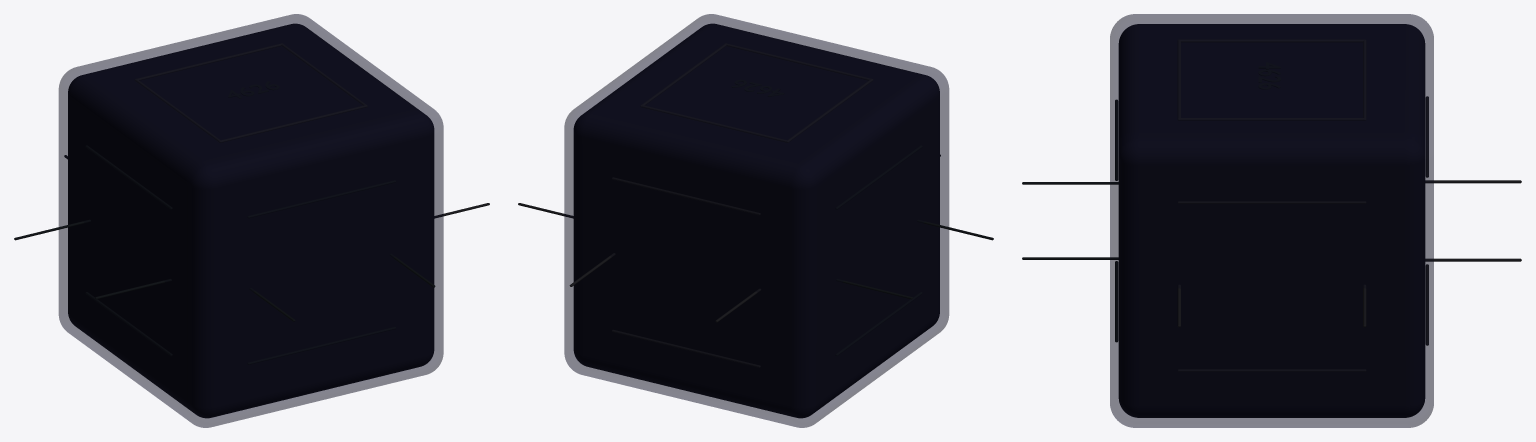
File: obsidian-vault.glb
3 views of the same model, side by side, from view 1: azimuth 30°, elevation 25°; view 2: azimuth 150°, elevation 25°; view 3: azimuth 270°, elevation 25° (orthographic). The views are drawn at different scales.
Parts seen in each view (by area): view 1: smoked_glass_outer_shell, obsidian_vault_core, vault_secondary_bottom_seam_2, vault_secondary_bottom_seam_1, vault_front_seam_2, vault_front_seam_1; view 2: smoked_glass_outer_shell, obsidian_vault_core, vault_top_seam_2, vault_top_seam_1, vault_front_seam_1, vault_front_seam_2; view 3: smoked_glass_outer_shell, obsidian_vault_core, vault_front_seam_4, vault_right_seam_3, vault_right_seam_4, vault_front_seam_3.
Part boxes in pixels (x1,y1,x2,y2): smoked_glass_outer_shell: (58, 14, 443, 427); obsidian_vault_core: (68, 23, 434, 418); vault_secondary_bottom_seam_2: (247, 326, 395, 364); vault_secondary_bottom_seam_1: (247, 180, 396, 218); vault_front_seam_2: (218, 105, 366, 142); vault_front_seam_1: (134, 43, 282, 80); smoked_glass_outer_shell: (564, 14, 949, 427); obsidian_vault_core: (573, 23, 939, 418); vault_top_seam_2: (611, 177, 760, 215); vault_top_seam_1: (612, 329, 760, 367); vault_front_seam_1: (641, 105, 789, 142); vault_front_seam_2: (725, 43, 873, 80); smoked_glass_outer_shell: (1110, 14, 1433, 427); obsidian_vault_core: (1118, 24, 1425, 417); vault_front_seam_4: (1177, 39, 1366, 42); vault_right_seam_3: (1177, 369, 1366, 371); vault_right_seam_4: (1177, 201, 1366, 203); vault_front_seam_3: (1177, 118, 1366, 120).
Size of the model in its own units: 2.8 by 1.82 by 2.8.
